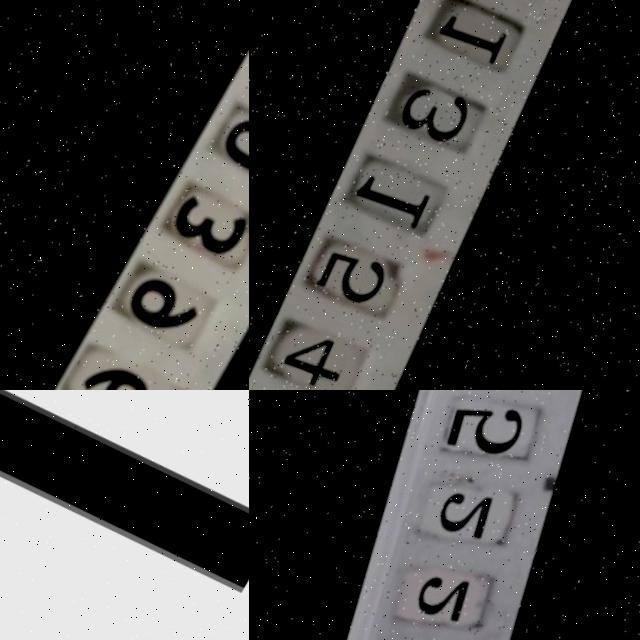0: (186, 74, 249, 224)
1: (334, 138, 456, 258), (415, 0, 531, 93)
2: (402, 453, 530, 579), (383, 537, 505, 640)
3: (138, 149, 249, 300), (373, 55, 501, 181)
4: (256, 300, 380, 390)
5: (293, 216, 419, 338), (421, 390, 553, 495)
6: (44, 307, 200, 390)
9: (93, 231, 241, 381)
N: (0, 390, 249, 640)
